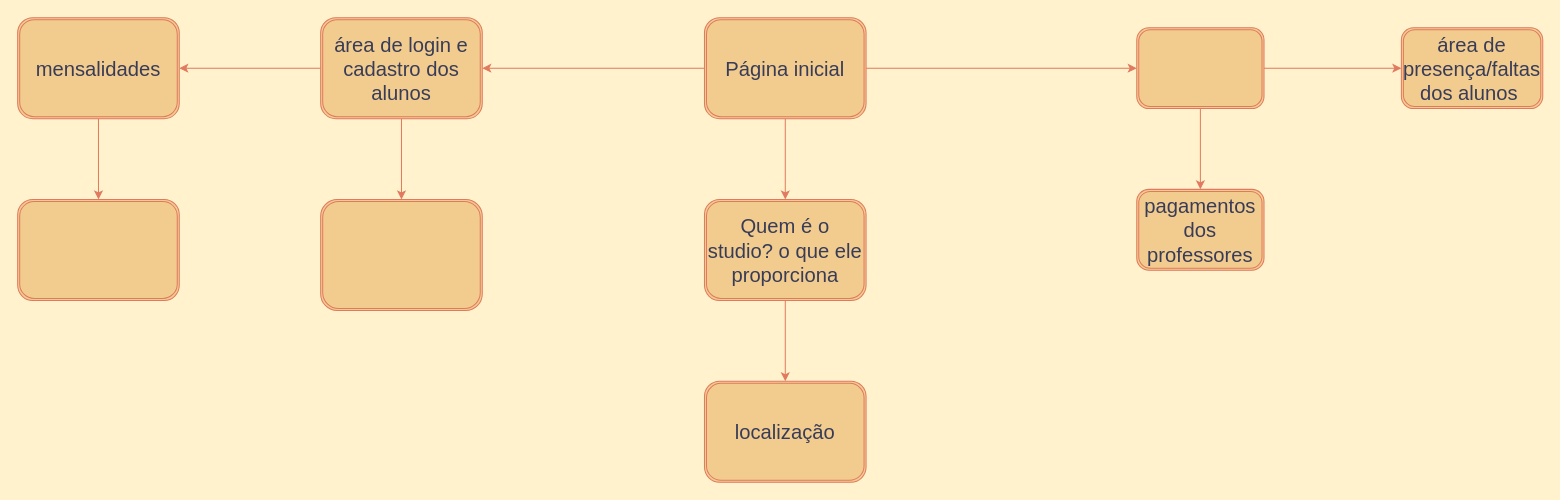
Some shapes in this 1560 by 500 pixel diagram are drawn without their labels. The shapes that lost their labels are listed below. From the top down, each one's box as (x1, y1, x2, y2) in pixels, then its label:
(1136, 27, 1264, 109): fúncionarios
(17, 198, 179, 300): formas de pagamentos
(320, 198, 482, 311): grade de aulas modalidades (dias/horários)
